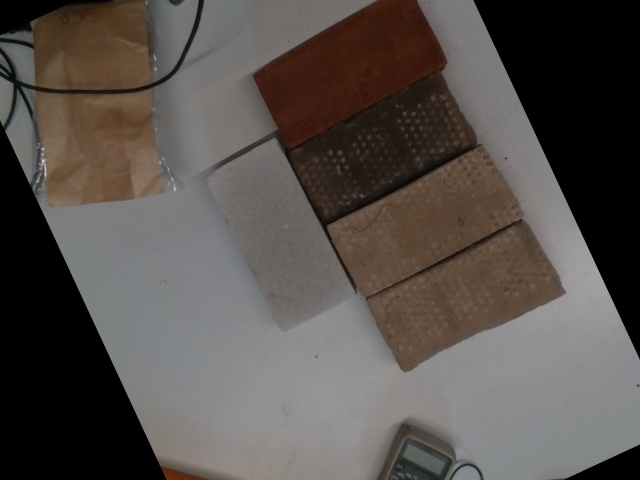brick: (364, 218, 563, 376), (324, 142, 520, 298), (202, 138, 355, 332), (289, 74, 476, 220)
